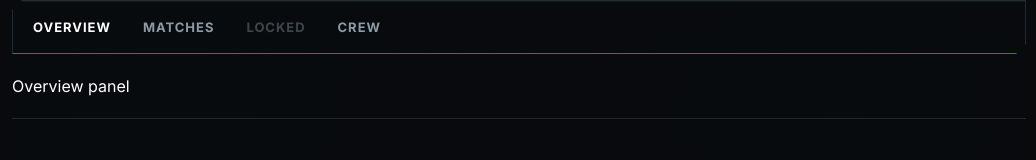
Scenario: Tabs › changes selection after a click
The width and height of the screenshot is (1036, 160).
Click the tab "Matches".
click(179, 27)  # box [127, 5, 230, 49]
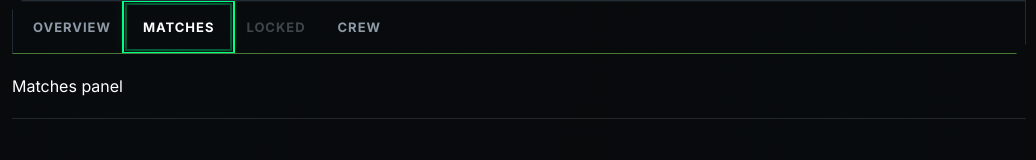
Check: the panel "Matches" is shown, box [12, 54, 1026, 119]
